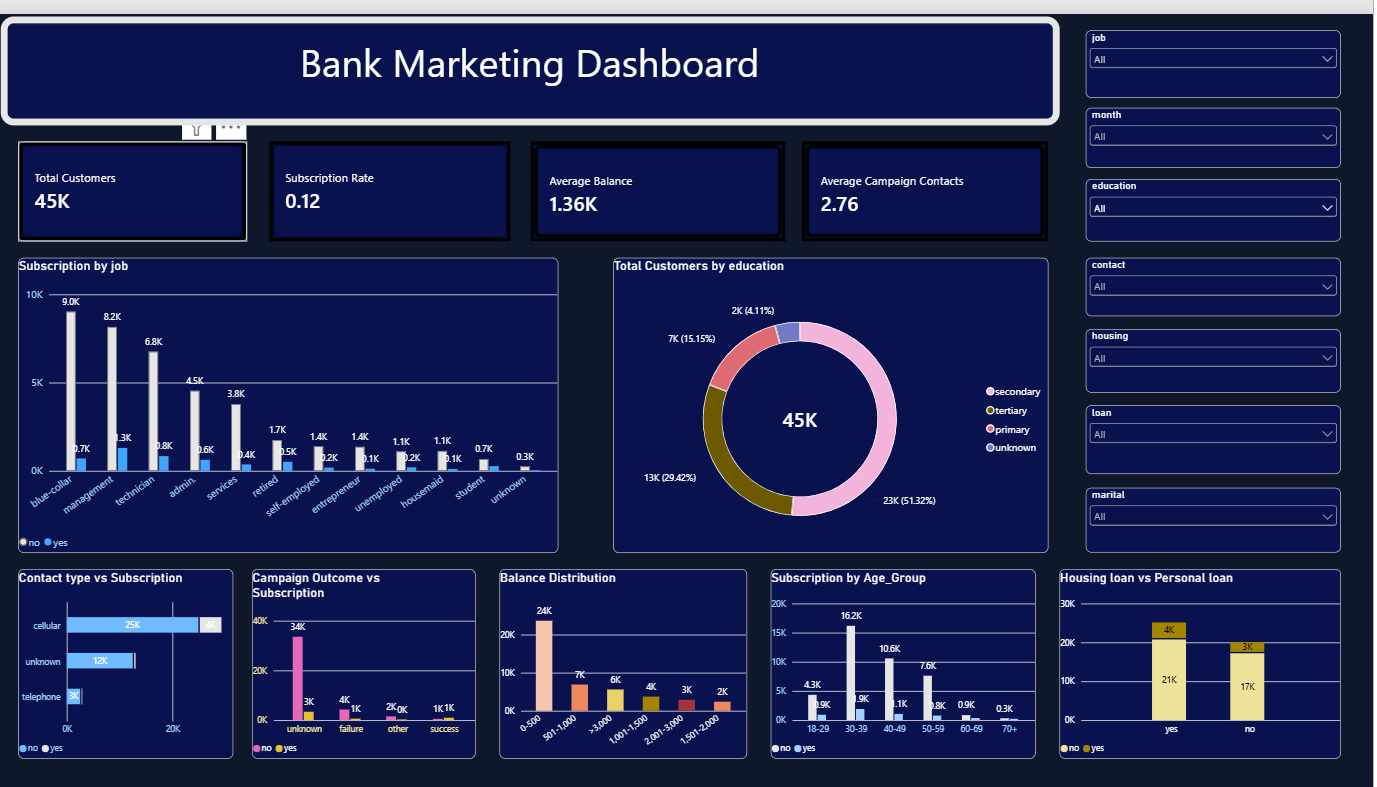

Layout of this report page (visuals, bound fields, positions):
{"tool":"powerbi","page":{"name":"Page 1","canvas":[1920,1080],"ordinal":0},"visuals":[{"type":"cardVisual","fields":{"Data":["bank-full.Total Customers"]},"box":[29.7,177.9,319.2,139.5],"z":0},{"type":"cardVisual","fields":{"Data":["bank-full.Average Balance"]},"box":[744.8,177.9,355.8,139.5],"z":1000},{"type":"cardVisual","fields":{"Data":["bank-full.Average Campaign Contacts"]},"box":[1123.3,177.9,343.6,139.5],"z":2000},{"type":"cardVisual","fields":{"Data":["bank-full.Subscription Rate"]},"box":[380.2,177.9,336.6,139.5],"z":3000},{"type":"clusteredColumnChart","title":"Subscription by job","fields":{"Category":["bank-full.job"],"Y":["bank-full.Total Customers"],"Series":["bank-full.y"]},"box":[29.7,340.1,753.5,411.6],"z":4000},{"type":"donutChart","fields":{"Category":["bank-full.education"],"Y":["bank-full.Total Customers"]},"box":[859.9,340.1,607,411.6],"z":5000},{"type":"columnChart","title":"Housing loan vs Personal loan","fields":{"Category":["bank-full.housing"],"Y":["bank-full.Total Customers"],"Series":["bank-full.loan"]},"box":[1482.6,774.4,392.4,265.1],"z":6000},{"type":"clusteredColumnChart","title":"Subscription by Age_Group","fields":{"Category":["bank-full.Age_Group"],"Y":["bank-full.Total Customers"],"Series":["bank-full.y"]},"box":[1079.7,774.4,369.8,265.1],"z":7000},{"type":"clusteredColumnChart","title":"Balance Distribution","fields":{"Category":["bank-full.Balance Range"],"Y":["bank-full.Total Customers"]},"box":[701.2,774.4,345.3,265.1],"z":8000},{"type":"barChart","title":"Contact type vs Subscription","fields":{"Category":["bank-full.contact"],"Y":["bank-full.Total Customers"],"Series":["bank-full.y"]},"box":[29.7,774.4,300,265.1],"z":9000},{"type":"clusteredColumnChart","title":"Campaign Outcome vs Subscription","fields":{"Category":["bank-full.poutcome"],"Y":["bank-full.Total Customers"],"Series":["bank-full.y"]},"box":[355.8,774.4,312.2,265.1],"z":10000},{"type":"slicer","fields":{"Values":["bank-full.job"]},"box":[1519.2,22.7,355.8,94.2],"z":11000},{"type":"slicer","fields":{"Values":["bank-full.marital"]},"box":[1519.2,661,355.8,90.7],"z":12000},{"type":"slicer","fields":{"Values":["bank-full.education"]},"box":[1519.2,230.2,355.8,87.2],"z":13000},{"type":"slicer","fields":{"Values":["bank-full.housing"]},"box":[1519.2,439.5,355.8,89],"z":14000},{"type":"slicer","fields":{"Values":["bank-full.loan"]},"box":[1519.2,545.9,355.8,95.9],"z":15000},{"type":"slicer","fields":{"Values":["bank-full.contact"]},"box":[1519.2,340.1,355.8,82],"z":16000},{"type":"slicer","fields":{"Values":["bank-full.month"]},"box":[1519.2,130.8,355.8,83.7],"z":17000},{"type":"textbox","box":[5.2,3.5,1477.3,151.7],"z":19000}]}

Visuals, with their boxes in screenshot pixels (x1, y1, x2, y2), scaled from the page's 1920x1080 canvas onto the 1377x787 screenshot:
cardVisual - bank-full.Total Customers: 21/130/250/231
cardVisual - bank-full.Average Balance: 534/130/789/231
cardVisual - bank-full.Average Campaign Contacts: 806/130/1052/231
cardVisual - bank-full.Subscription Rate: 273/130/514/231
"Subscription by job" clusteredColumnChart: 21/248/562/548
donutChart - bank-full.education x bank-full.Total Customers: 617/248/1052/548
"Housing loan vs Personal loan" columnChart: 1063/564/1345/757
"Subscription by Age_Group" clusteredColumnChart: 774/564/1040/757
"Balance Distribution" clusteredColumnChart: 503/564/751/757
"Contact type vs Subscription" barChart: 21/564/236/757
"Campaign Outcome vs Subscription" clusteredColumnChart: 255/564/479/757
slicer - bank-full.job: 1090/17/1345/85
slicer - bank-full.marital: 1090/482/1345/548
slicer - bank-full.education: 1090/168/1345/231
slicer - bank-full.housing: 1090/320/1345/385
slicer - bank-full.loan: 1090/398/1345/468
slicer - bank-full.contact: 1090/248/1345/308
slicer - bank-full.month: 1090/95/1345/156
textbox: 4/3/1063/113
